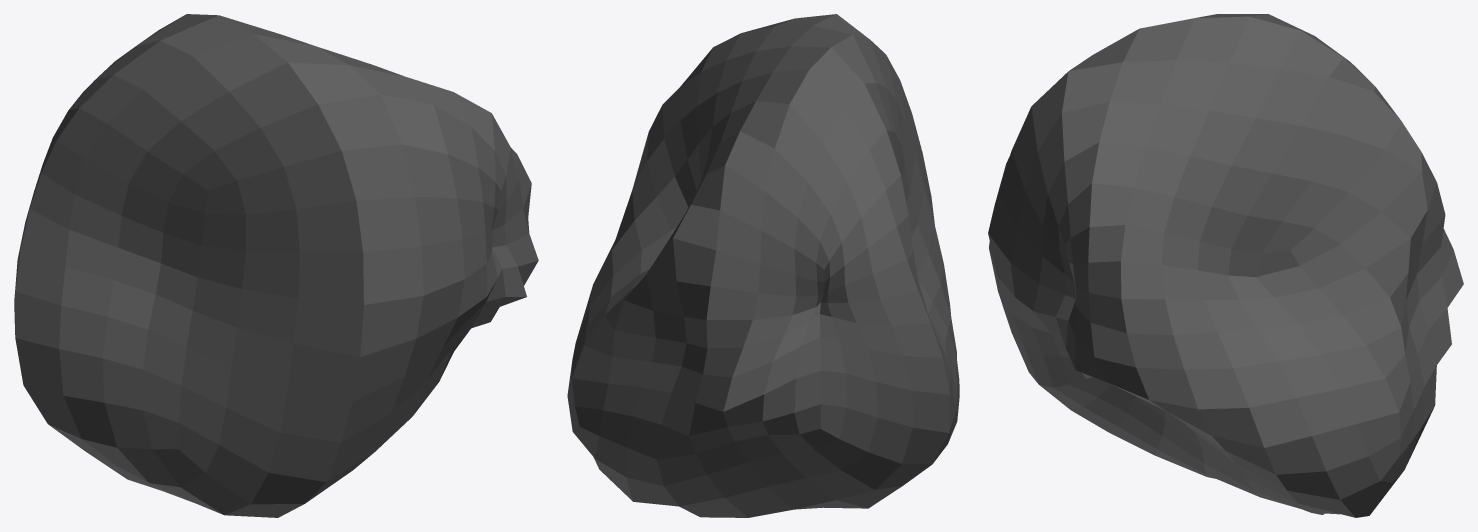
The model's file is rock5.fbx.
3 renders of one model, left to right at view 1: azimuth 30°, elevation 25°; view 2: azimuth 150°, elevation 25°; view 3: azimuth 270°, elevation 25°, orthographic. The views are drawn at different scales.
Visible parts, largest first — view 1: rock5; view 2: rock5; view 3: rock5.
Part boxes in pixels (box(x1,y1,x2,y2)): rock5: box(14, 14, 538, 517); rock5: box(567, 14, 959, 517); rock5: box(988, 14, 1463, 517).
Size of the model in its own units: 134 by 146 by 136.
